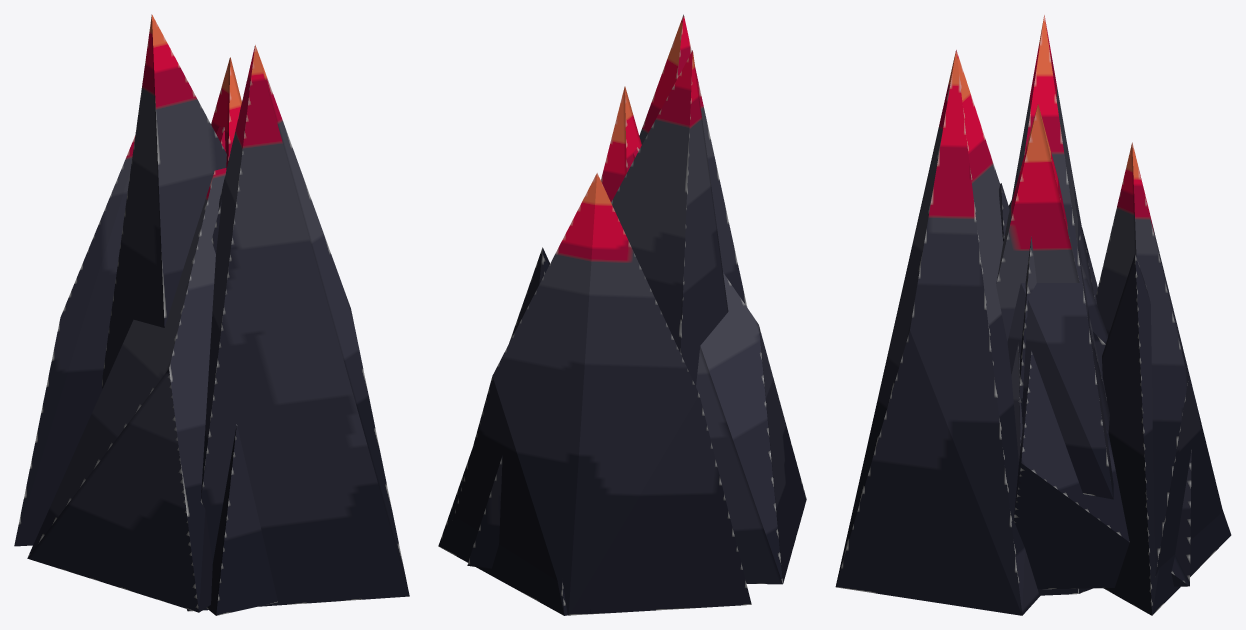
Rendered from lava_models.fbx.
3 views of the same model, side by side, from view 1: azimuth 30°, elevation 25°; view 2: azimuth 150°, elevation 25°; view 3: azimuth 270°, elevation 25° (orthographic). The views are drawn at different scales.
Parts seen in each view (by area): view 1: 2_spike_mountain_large, 2_spike_mountain_medium; view 2: 2_spike_mountain_large, 2_spike_mountain_medium; view 3: 2_spike_mountain_large, 2_spike_mountain_medium, 2_spike_mountain_small.
Boxes of the visible parts, x1,y1,x2,y2 form: 2_spike_mountain_large: (14, 14, 409, 615); 2_spike_mountain_medium: (27, 57, 241, 612); 2_spike_mountain_large: (438, 14, 751, 615); 2_spike_mountain_medium: (467, 86, 806, 584); 2_spike_mountain_large: (835, 15, 1231, 615); 2_spike_mountain_medium: (996, 104, 1191, 589); 2_spike_mountain_small: (1011, 342, 1022, 461).
Size of the model in its own units: 1.2 by 1.92 by 1.36.
9 materials, 9 textured.
